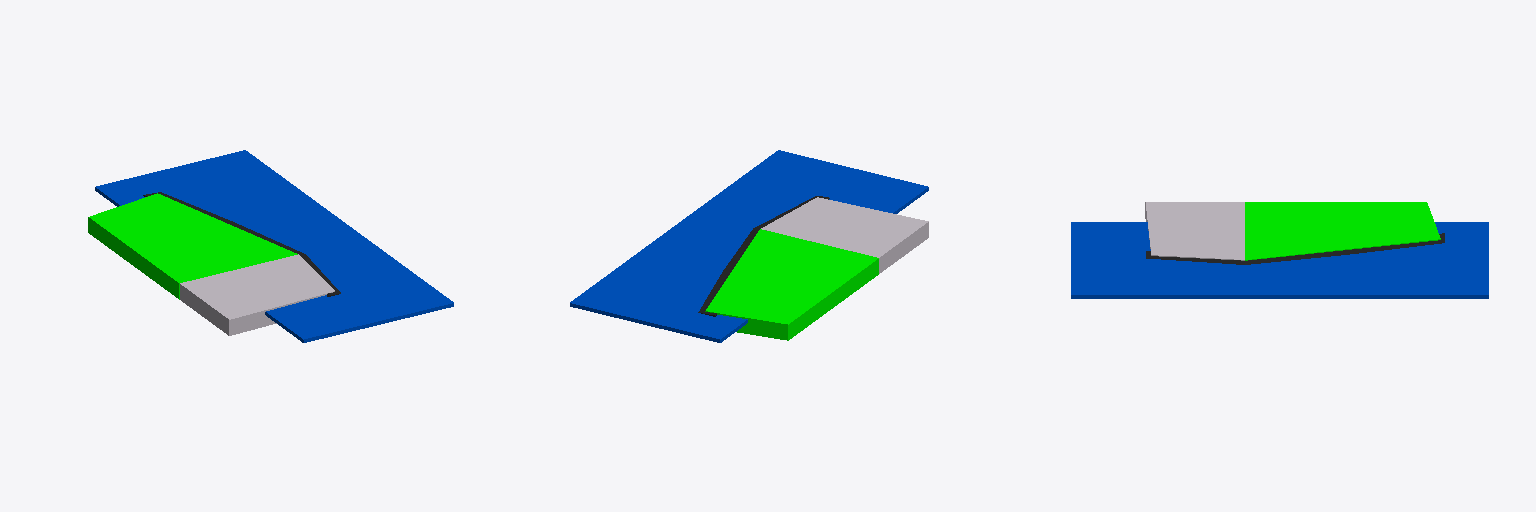
Rendered from field_L.obj.
The picture shows the model from 3 angles: view 1: azimuth 30°, elevation 25°; view 2: azimuth 150°, elevation 25°; view 3: azimuth 270°, elevation 25°; orthographic projection.
Parts seen in each view (by area): view 1: 立方体.004_立方体.002, 立方体.003_立方体.001, 立方体, 立方体.005; view 2: 立方体.004_立方体.002, 立方体.003_立方体.001, 立方体, 立方体.005; view 3: 立方体.004_立方体.002, 立方体.003_立方体.001, 立方体, 立方体.005.
Boxes of the visible parts, box(x1,y1,x2,y2) form: 立方体.004_立方体.002: box(95, 150, 453, 342); 立方体.003_立方体.001: box(88, 193, 297, 299); 立方体: box(180, 254, 334, 335); 立方体.005: box(143, 192, 340, 296); 立方体.004_立方体.002: box(570, 150, 928, 342); 立方体.003_立方体.001: box(705, 229, 878, 340); 立方体: box(761, 197, 928, 273); 立方体.005: box(698, 196, 829, 316); 立方体.004_立方体.002: box(1071, 222, 1488, 298); 立方体.003_立方体.001: box(1245, 202, 1440, 260); 立方体: box(1145, 202, 1244, 260); 立方体.005: box(1146, 233, 1444, 264).
Bounding box in the file's own units: 1531 × 127 × 2946.